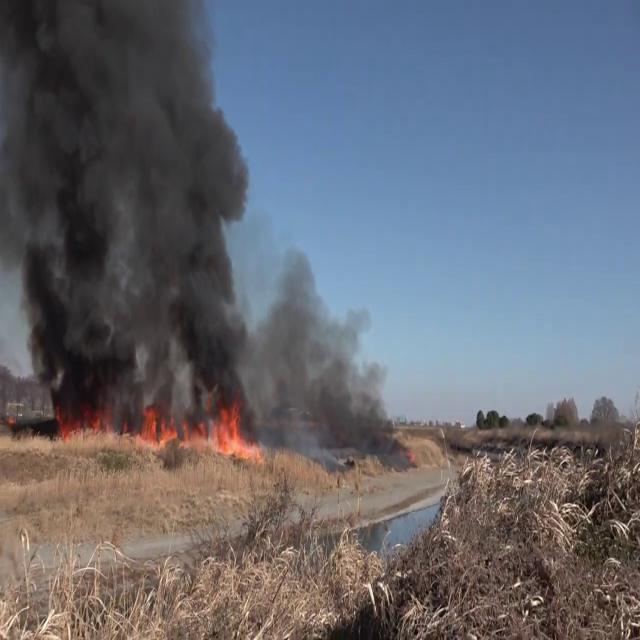Fire: (55, 391, 264, 452), (54, 393, 180, 449), (207, 392, 263, 463)
Smoke: (0, 0, 264, 417), (252, 237, 416, 462)
